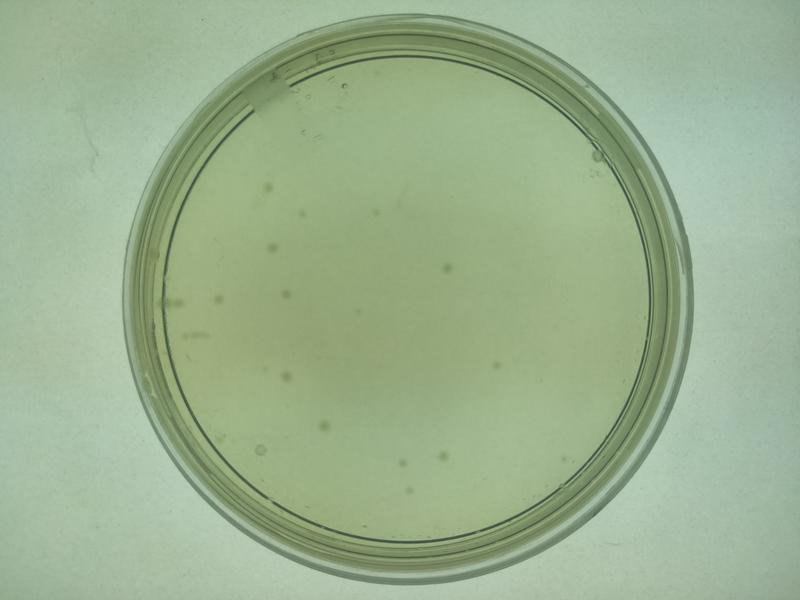colony: (486, 356, 508, 373), (316, 416, 333, 438), (437, 258, 456, 276), (277, 282, 294, 302), (259, 180, 278, 197), (433, 449, 452, 466), (210, 291, 225, 308), (401, 486, 416, 503), (263, 241, 278, 257), (278, 367, 293, 383), (295, 208, 308, 225), (395, 456, 407, 472)
